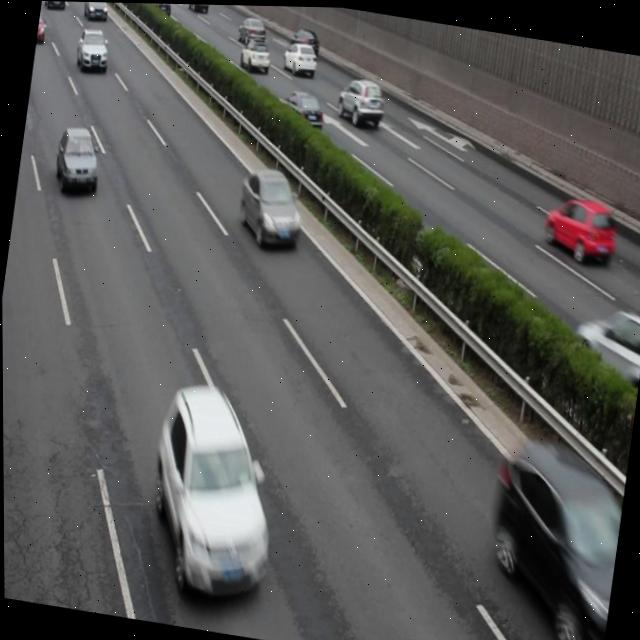car: (140, 384, 287, 602), (476, 435, 629, 640), (568, 297, 640, 396), (234, 164, 306, 247), (542, 190, 615, 262), (53, 123, 105, 193), (335, 74, 386, 129), (280, 87, 327, 133), (75, 26, 110, 71), (281, 40, 317, 75), (239, 37, 271, 74), (238, 14, 267, 45), (290, 25, 320, 54), (148, 3, 172, 19), (188, 3, 209, 13)
